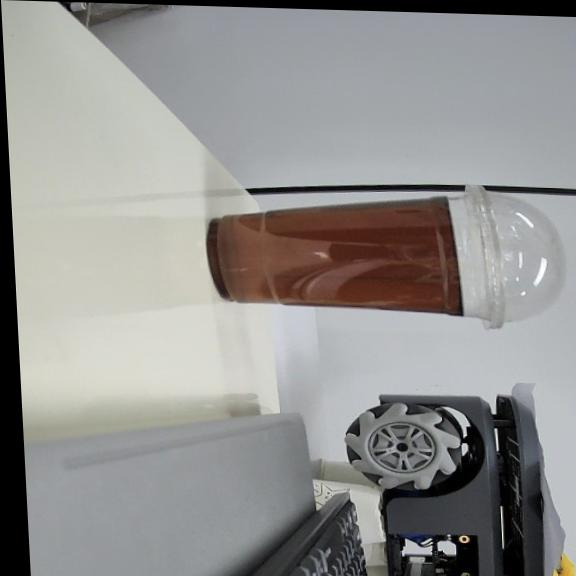Plastik: (207, 186, 564, 328)
